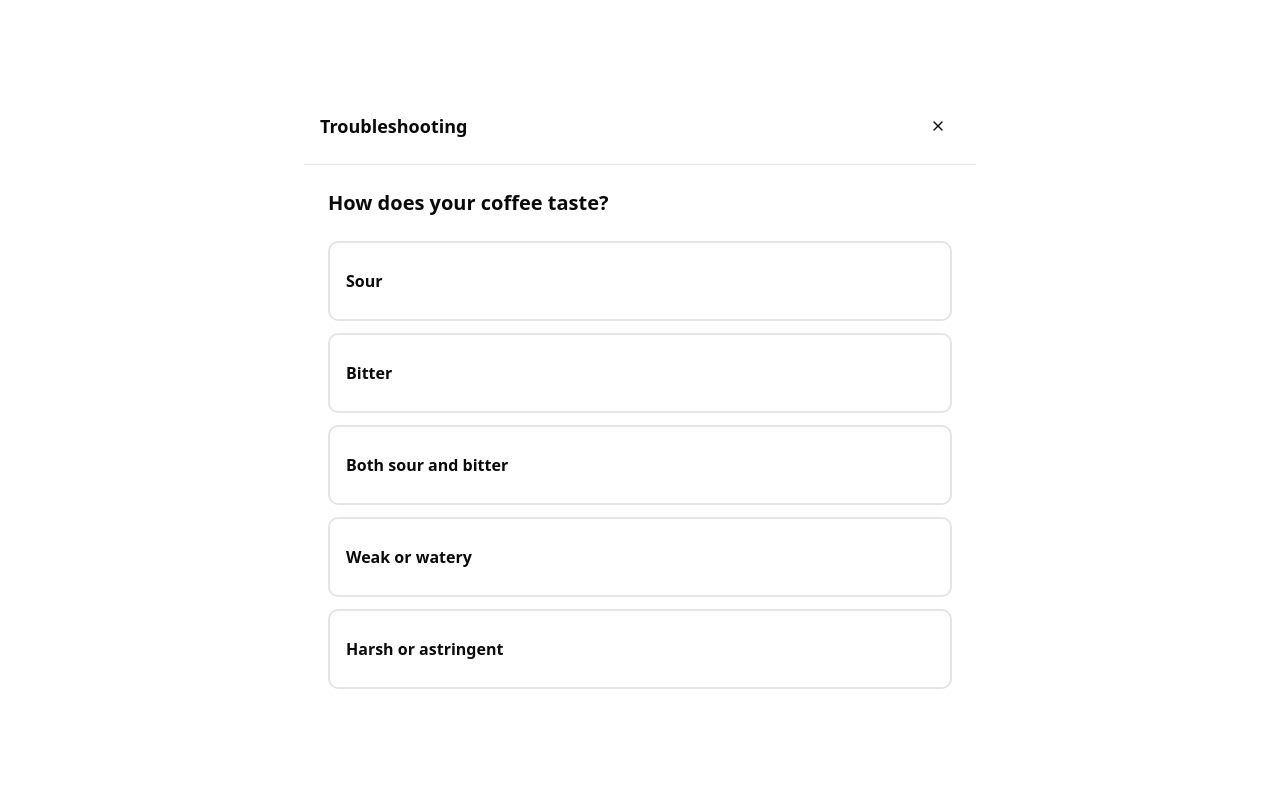
Test case: TroubleshootingTree › shows Start Over button after leaving root
Click the button "Sour". click: coordinates (364, 280)
box: [328,240,952,320]
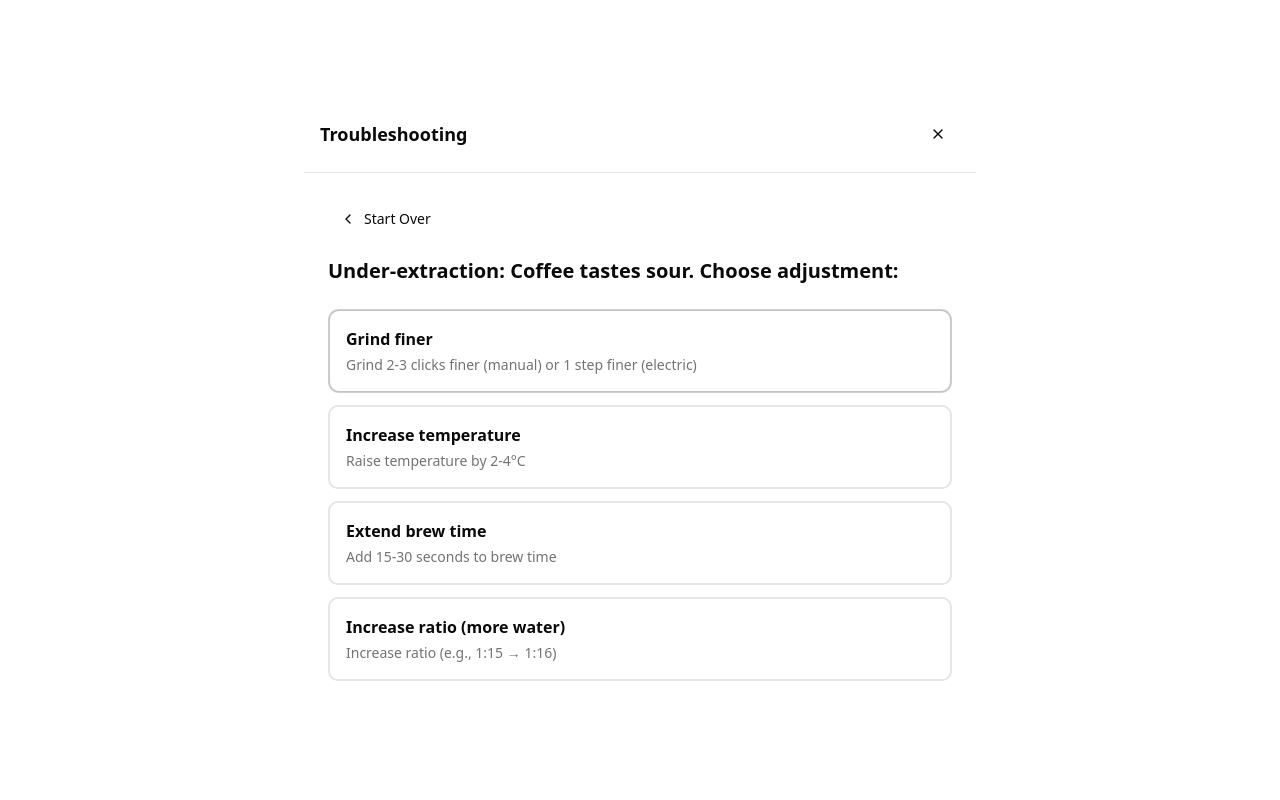
Check: the button "Start Over" is shown, box [328,196,443,240]
